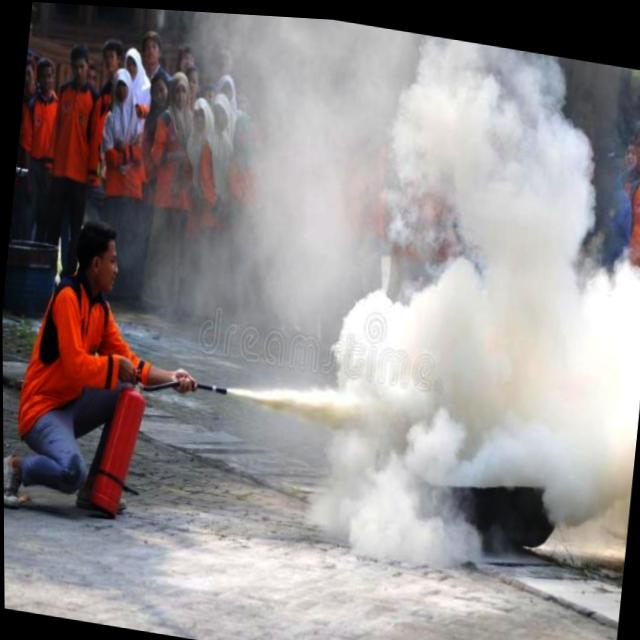FireExtinguisher: (73, 355, 236, 537)
